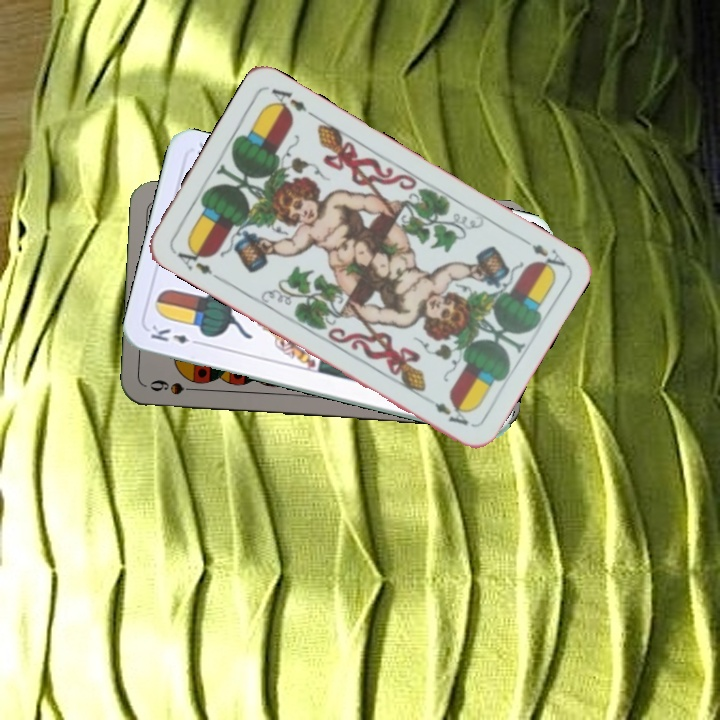EA: (169, 241, 223, 283), (516, 232, 568, 275)
EK: (146, 321, 205, 348)
S9: (147, 376, 204, 397)
